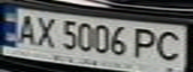0: (90, 21, 112, 55), (75, 20, 93, 53)
5: (57, 17, 78, 52)
6: (109, 24, 133, 57)
A: (12, 11, 42, 46)
C: (151, 28, 187, 63)
P: (130, 26, 163, 61)
X: (30, 14, 60, 48)
